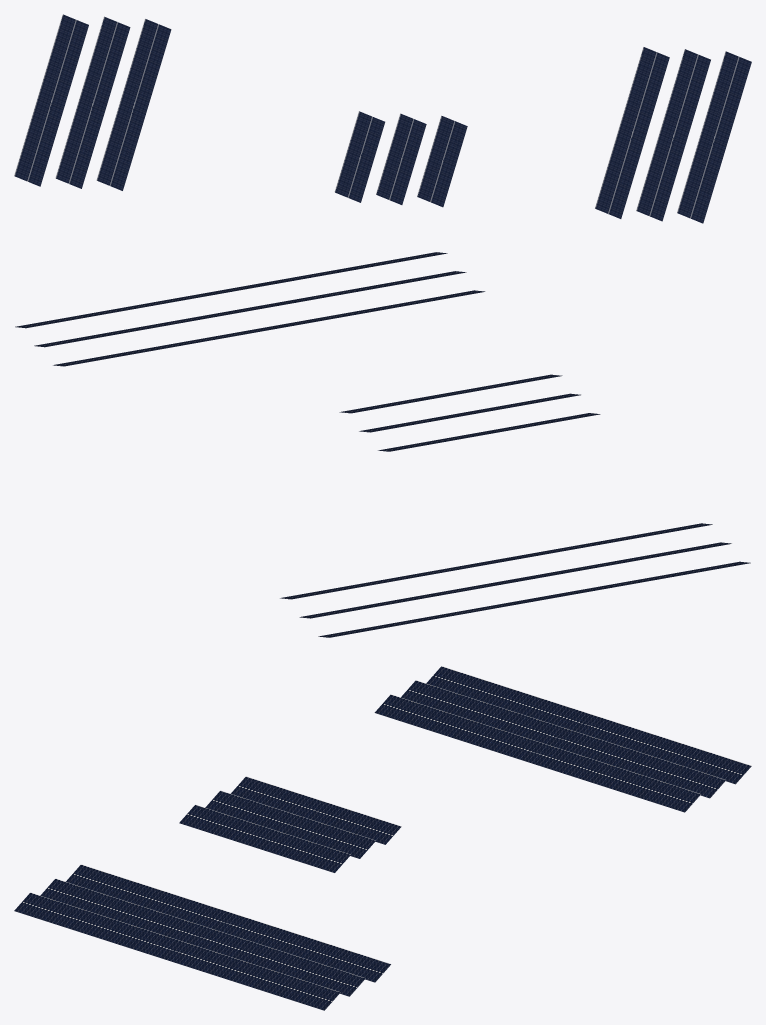
Rendered from 太阳能.fbx.
The picture shows the model from 3 angles, top to bottom: view 1: azimuth 30°, elevation 25°; view 2: azimuth 150°, elevation 25°; view 3: azimuth 270°, elevation 25°; orthographic projection. The views are drawn at different scales.
Visible parts, largest first — view 1: 太阳能001; view 2: 太阳能001; view 3: 太阳能001.
Part boxes in pixels (<box>): 太阳能001: <box>14,14,751,223</box>; 太阳能001: <box>15,252,750,637</box>; 太阳能001: <box>14,666,751,1010</box>.
Bounding box in the file's own units: 137244 × 1800 × 127685.
1 material, 1 textured.
